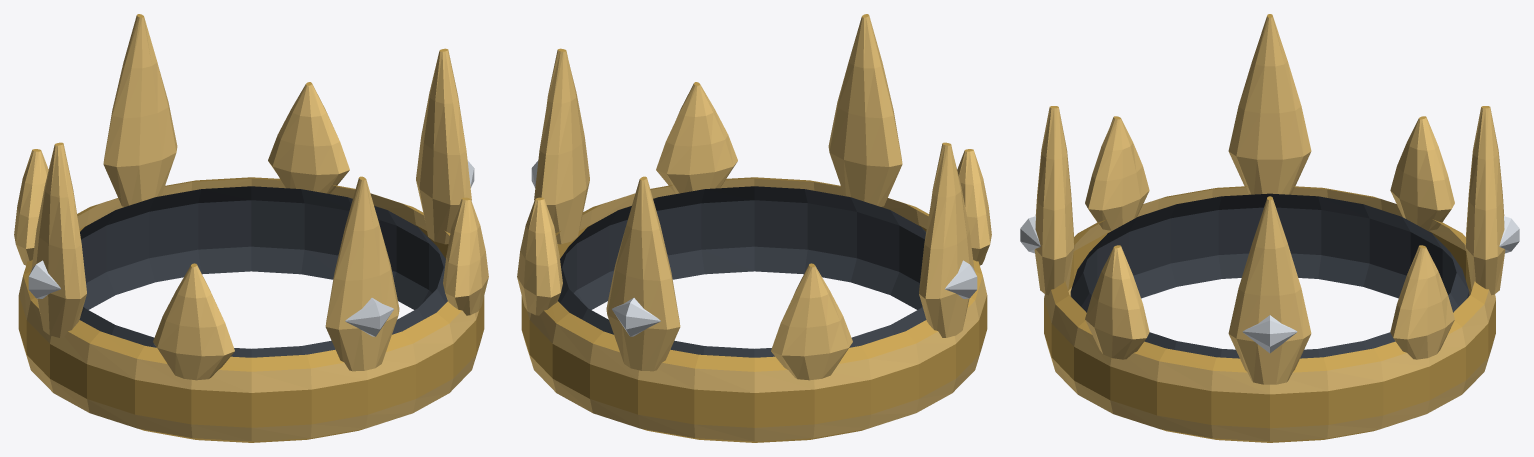
The model's file is OverlayCrown.obj.
The picture shows the model from 3 angles, left to right: view 1: azimuth 30°, elevation 25°; view 2: azimuth 150°, elevation 25°; view 3: azimuth 270°, elevation 25°; orthographic projection. The views are drawn at different scales.
Bounding box in the file's own units: 1.2 × 0.66 × 1.2.
